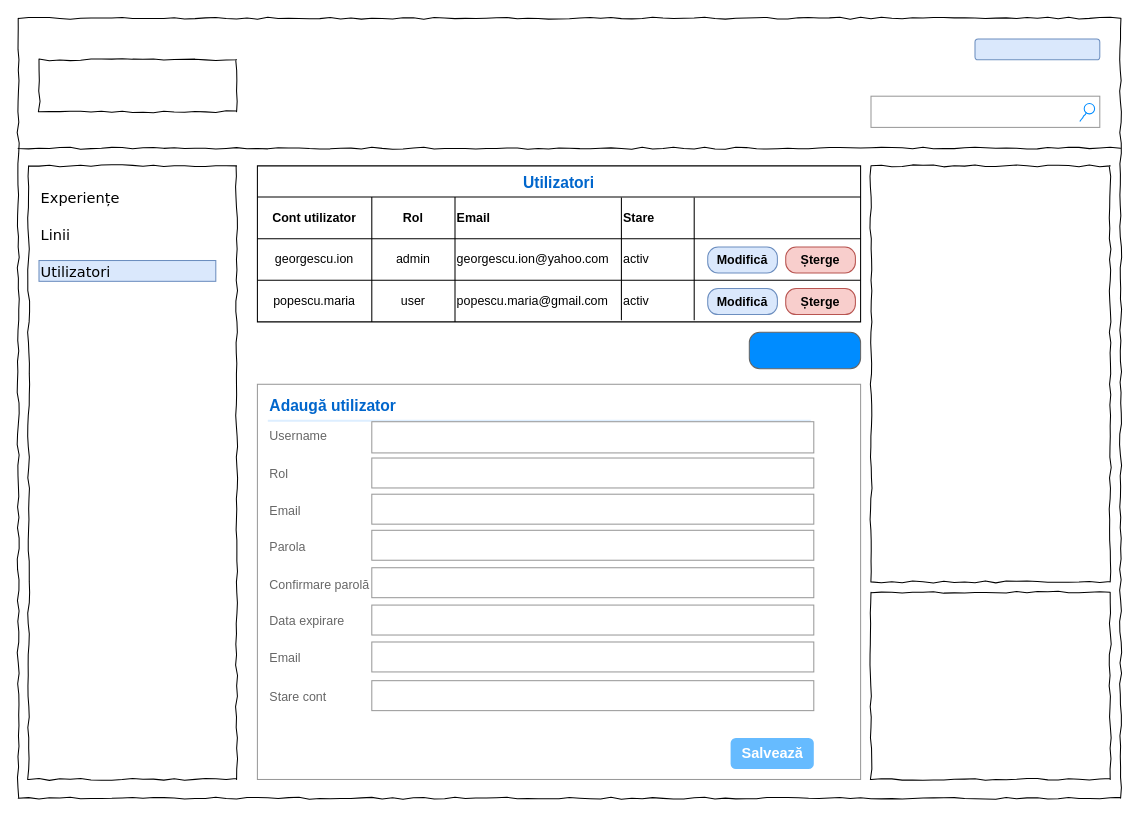
Some shapes in this 1139 by 816 pixel diagram are drawn without their labels. The centre of each missing label's shape, as x and y in pixels:
Adaugă: pixel 804 350
Deconectare: pixel 1037 49
Informații: pixel 990 373
Link-uri externe: pixel 990 685
LOGO: pixel 137 85
Search: pixel 985 111
